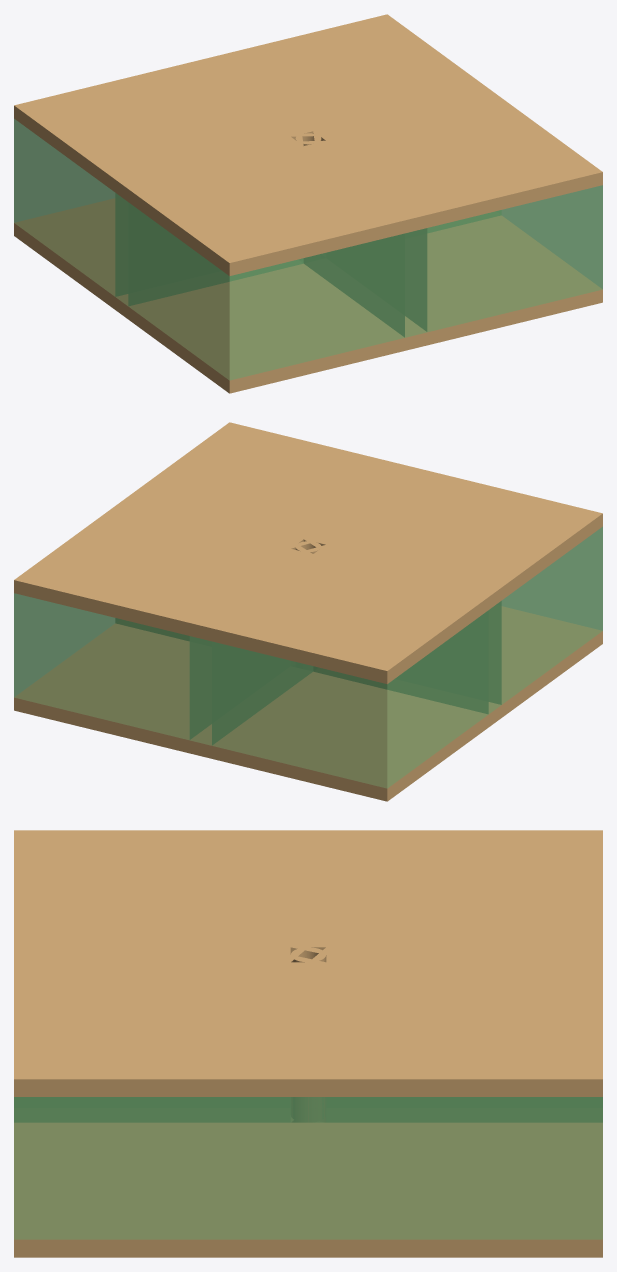
File: board.glb
3 views of the same model, one above another, from view 1: azimuth 30°, elevation 25°; view 2: azimuth 150°, elevation 25°; view 3: azimuth 270°, elevation 25° (orthographic). The views are drawn at different scales.
Visible parts, largest first — view 1: Substrate_Layer_2_Z0, Substrate_Layer_1_Z0, Substrate_Layer_0_Z0; view 2: Substrate_Layer_2_Z0, Substrate_Layer_1_Z0, Substrate_Layer_0_Z0; view 3: Substrate_Layer_2_Z0, Substrate_Layer_1_Z0, Substrate_Layer_0_Z0.
Part boxes in pixels (x1,y1,x2,y2): Substrate_Layer_2_Z0: [14, 14, 602, 276]; Substrate_Layer_1_Z0: [14, 118, 602, 380]; Substrate_Layer_0_Z0: [14, 198, 602, 393]; Substrate_Layer_2_Z0: [14, 422, 602, 684]; Substrate_Layer_1_Z0: [14, 526, 602, 788]; Substrate_Layer_0_Z0: [14, 606, 602, 801]; Substrate_Layer_2_Z0: [14, 830, 602, 1096]; Substrate_Layer_1_Z0: [14, 1097, 602, 1239]; Substrate_Layer_0_Z0: [14, 1122, 602, 1257].
Bounding box in the file's own units: 0.005 × 0.00167 × 0.005.
